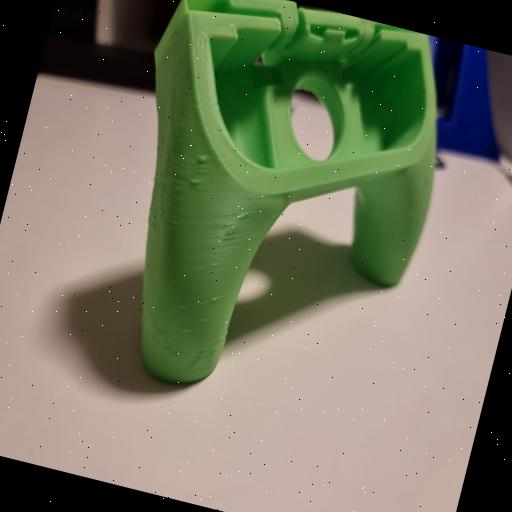blobs: (176, 140, 224, 218), (207, 207, 264, 255), (193, 272, 235, 322)
